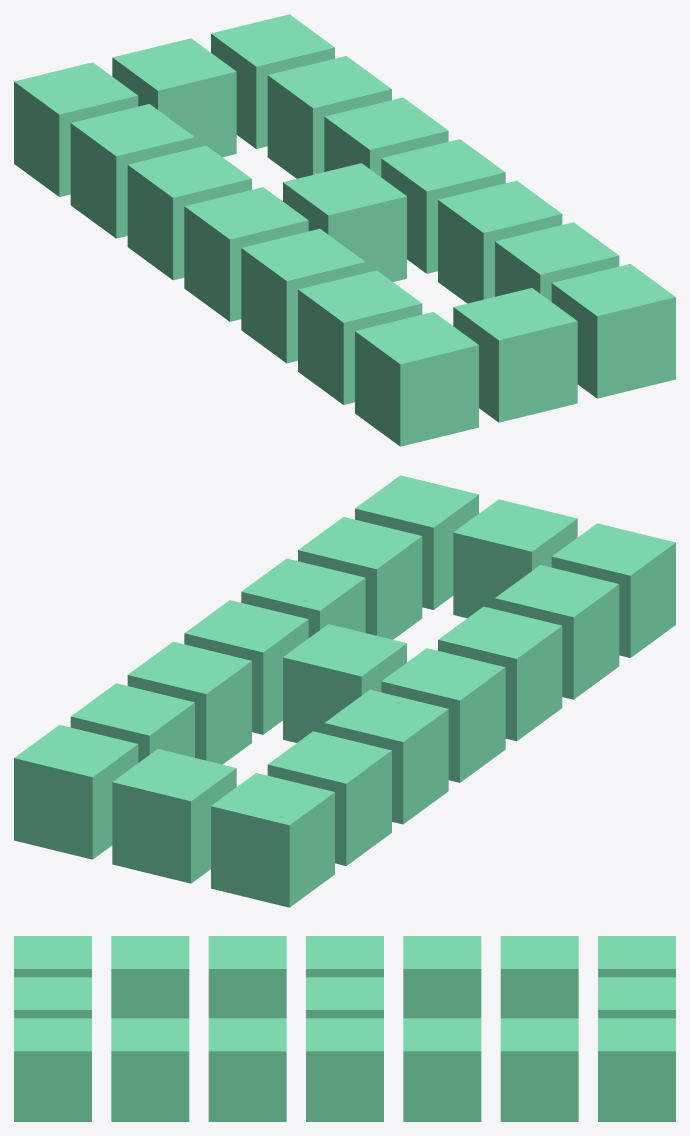
File: digit-2.glb
3 renders of one model, top to bottom at view 1: azimuth 30°, elevation 25°; view 2: azimuth 150°, elevation 25°; view 3: azimuth 270°, elevation 25°, orthographic. The views are drawn at different scales.
Parts seen in each view (by area): view 1: c15, c16, c17, c4, c8, c6, c2, c1, c13, c11, c9, c5 (+5 smaller); view 2: c1, c3, c2, c13, c8, c11, c16, c4, c15, c6, c9, c14 (+5 smaller); view 3: c7, c5, c12, c14, c10, c3, c17, c4, c11, c13, c6, c9 (+5 smaller).
Part boxes in pixels (x1=…): c15: x1=355, y1=312, x2=478, y2=446; c16: x1=453, y1=288, x2=577, y2=422; c17: x1=551, y1=264, x2=675, y2=398; c4: x1=70, y1=104, x2=194, y2=238; c8: x1=184, y1=187, x2=308, y2=321; c6: x1=127, y1=145, x2=251, y2=280; c2: x1=112, y1=38, x2=236, y2=157; c1: x1=14, y1=62, x2=138, y2=196; c13: x1=298, y1=270, x2=422, y2=404; c11: x1=241, y1=228, x2=365, y2=363; c9: x1=283, y1=163, x2=406, y2=281; c5: x1=267, y1=56, x2=391, y2=178; c1: x1=211, y1=773, x2=334, y2=907; c3: x1=14, y1=725, x2=138, y2=859; c2: x1=112, y1=749, x2=236, y2=883; c13: x1=495, y1=565, x2=619, y2=699; c8: x1=381, y1=648, x2=505, y2=782; c11: x1=438, y1=606, x2=562, y2=741; c16: x1=453, y1=499, x2=577, y2=618; c4: x1=267, y1=731, x2=391, y2=865; c15: x1=551, y1=523, x2=675, y2=657; c6: x1=324, y1=689, x2=448, y2=824; c9: x1=283, y1=624, x2=406, y2=742; c14: x1=298, y1=517, x2=422, y2=639; c7: x1=403, y1=1018, x2=481, y2=1121; c5: x1=500, y1=1018, x2=578, y2=1121; c12: x1=208, y1=1018, x2=286, y2=1121; c14: x1=111, y1=1018, x2=189, y2=1121; c10: x1=306, y1=1018, x2=383, y2=1121; c3: x1=598, y1=1018, x2=675, y2=1121; c17: x1=14, y1=1018, x2=91, y2=1121; c4: x1=500, y1=936, x2=578, y2=1018; c11: x1=208, y1=936, x2=286, y2=1018; c13: x1=111, y1=936, x2=189, y2=1018; c6: x1=403, y1=936, x2=481, y2=1018; c9: x1=306, y1=977, x2=383, y2=1018.
Size of the model in its own units: 7 by 2 by 17.
